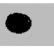correct: (3, 12, 33, 35)
